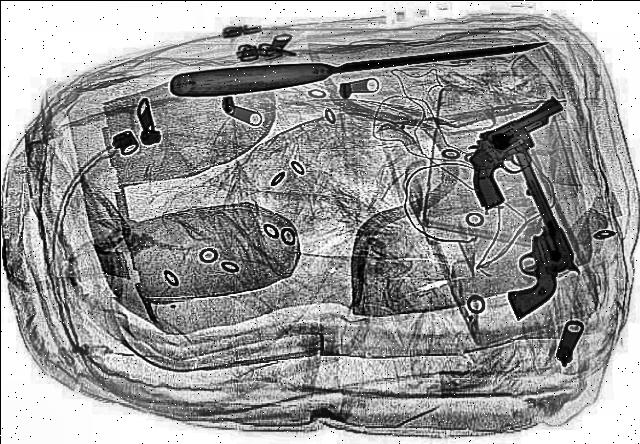Gun: (437, 148, 599, 322), (422, 95, 614, 211)
Knife: (165, 34, 551, 102)
